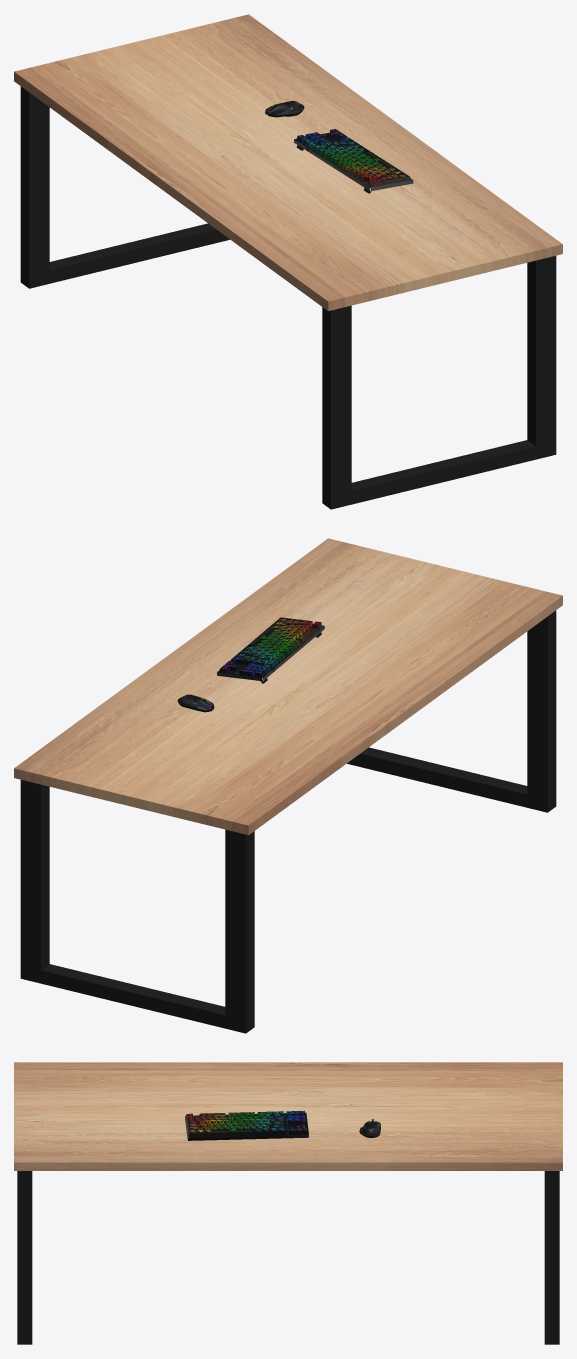
The model's file is desk.glb.
3 renders of one model, top to bottom at view 1: azimuth 30°, elevation 25°; view 2: azimuth 150°, elevation 25°; view 3: azimuth 270°, elevation 25°, orthographic. The views are drawn at different scales.
Parts seen in each view (by area): view 1: desk, Plane; view 2: desk, Plane; view 3: desk, Plane.
Boxes of the visible parts, x1,y1,x2,y2 form: desk: (14,14,562,509); Plane: (293,129,413,193); desk: (14,538,562,1033); Plane: (216,617,324,683); desk: (14,1062,562,1344); Plane: (185,1111,308,1140).
Size of the model in its own units: 3.02 by 2.72 by 7.
4 materials, 3 textured.
